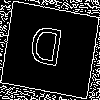D: (25, 25, 65, 77)
